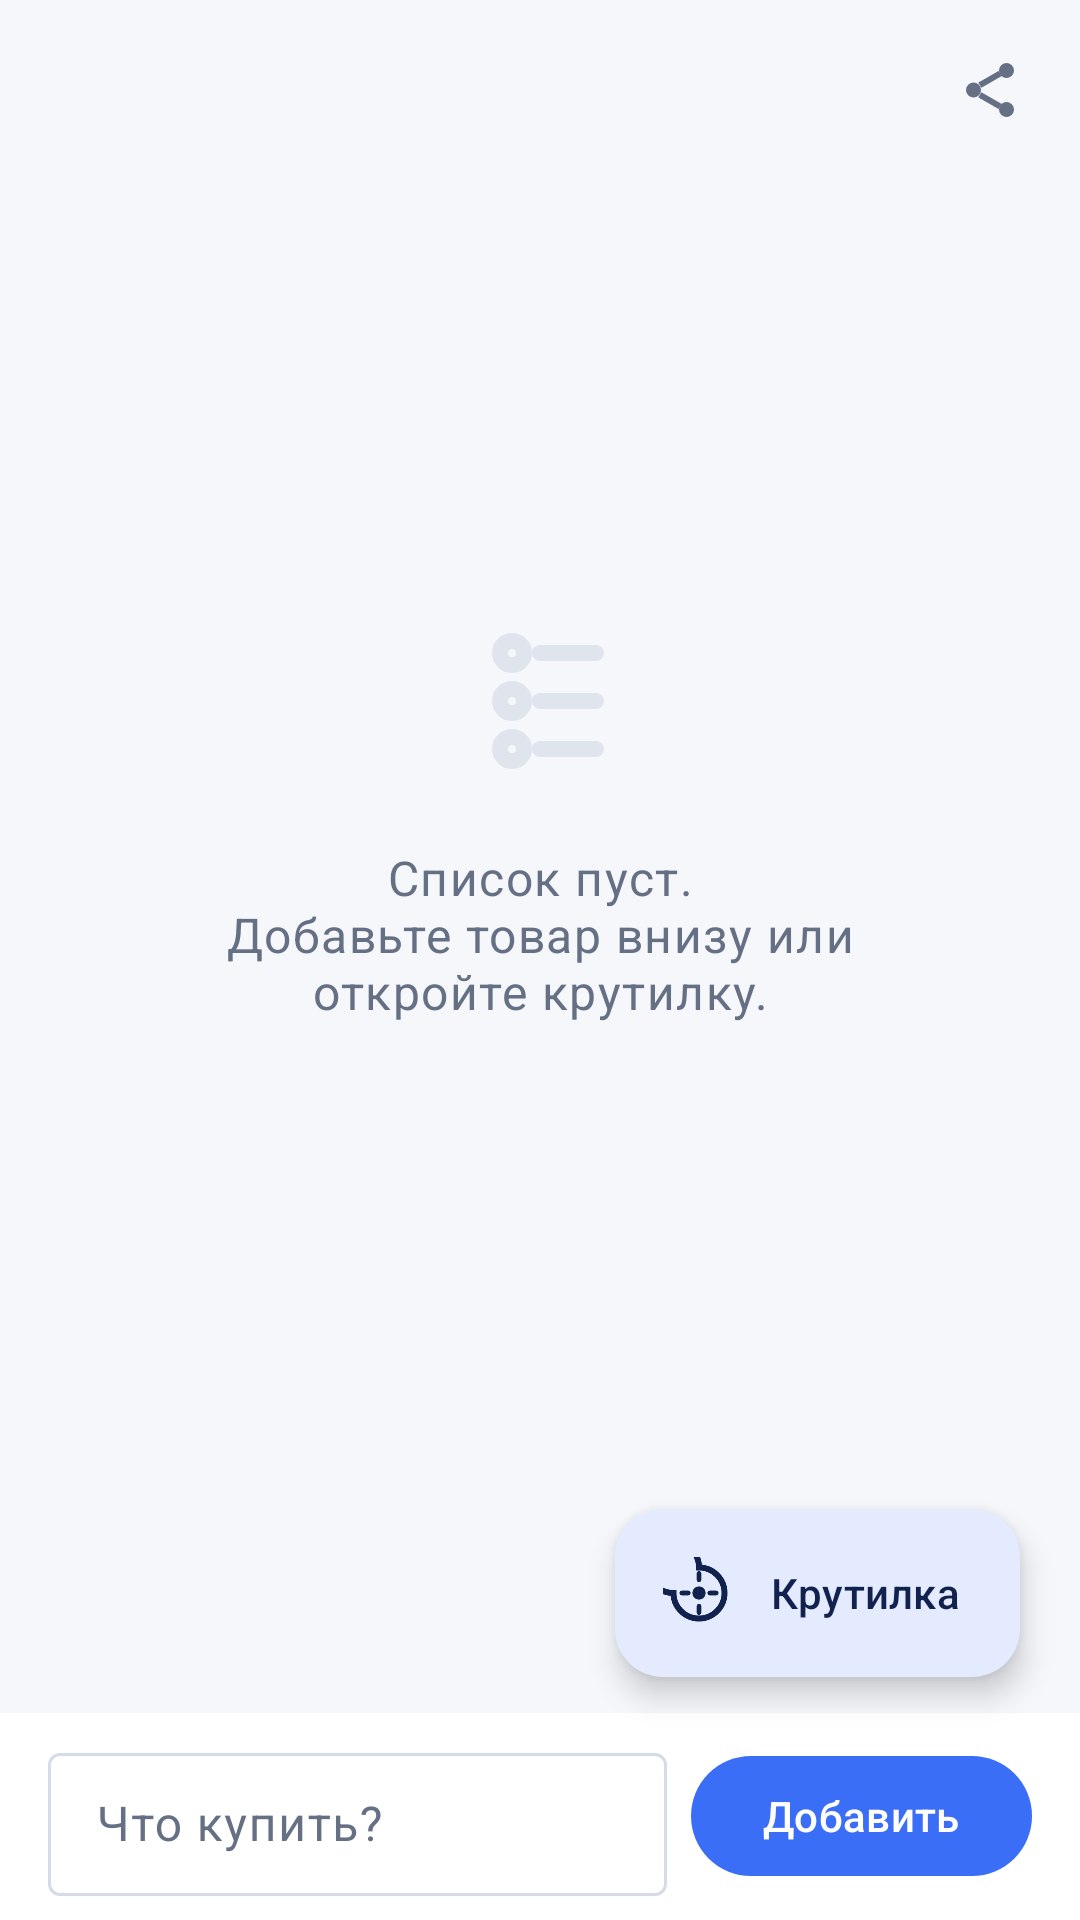

Icons on this 1080×1920 Android screen, each with its box as BBox(x1, y1, x2, y2):
Поделиться: BBox(966, 63, 1014, 117)
